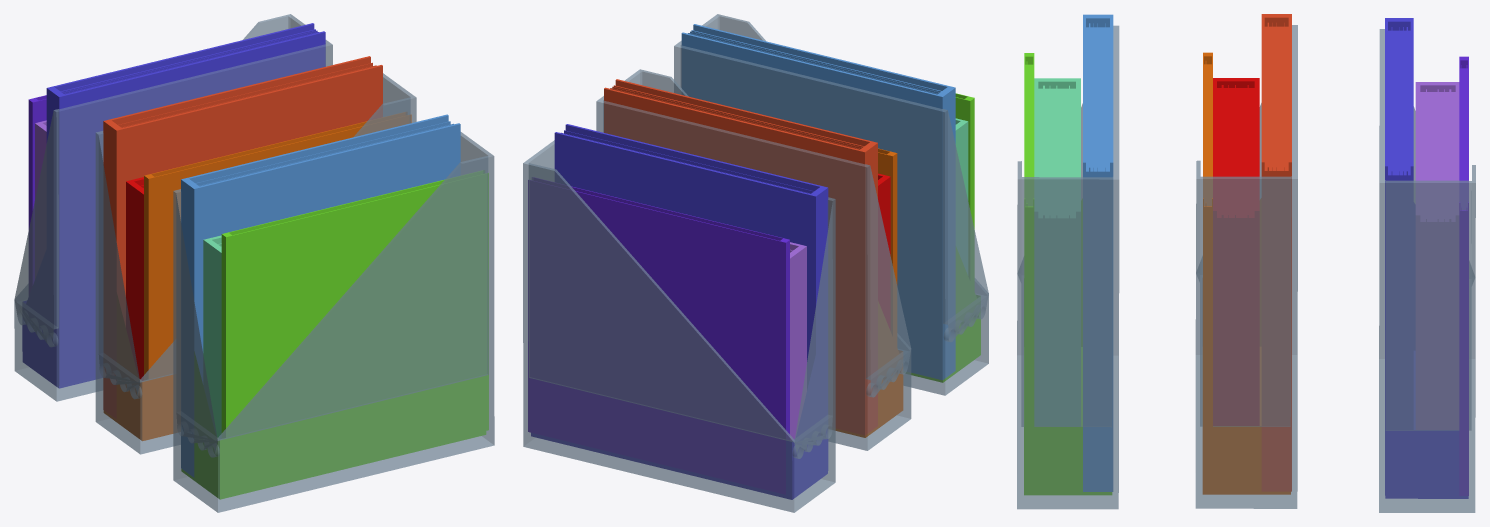
The model's file is folders2.0.fbx.
3 renders of one model, left to right at view 1: azimuth 30°, elevation 25°; view 2: azimuth 150°, elevation 25°; view 3: azimuth 270°, elevation 25°, orthographic. The views are drawn at different scales.
Parts seen in each view (by area): view 1: Cube.004, Cube.008, Cube.010; view 2: Cube.010, Cube.004, Cube.008; view 3: Cube.004, Cube.008, Cube.010.
Part boxes in pixels (x1,y1,x2,y2): Cube.004: (173, 114, 494, 512); Cube.008: (95, 56, 416, 454); Cube.010: (14, 14, 332, 401); Cube.010: (523, 124, 835, 512); Cube.004: (674, 14, 988, 395); Cube.008: (596, 69, 911, 450); Cube.004: (1017, 14, 1119, 509); Cube.008: (1195, 14, 1297, 508); Cube.010: (1379, 18, 1475, 512).
Bounding box in the file's own units: 324 × 339 × 403.
